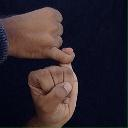hand: (0, 6, 76, 64), (28, 48, 78, 125)
